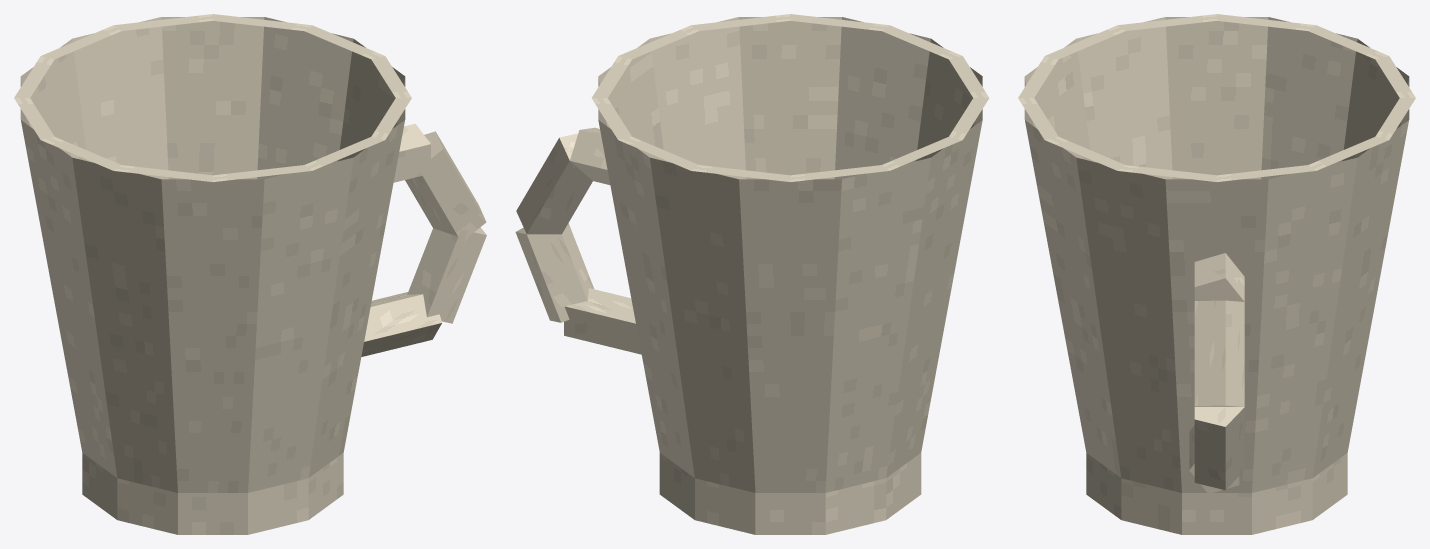
Rendered from ceramic_cup.glb.
The picture shows the model from 3 angles, left to right: view 1: azimuth 30°, elevation 25°; view 2: azimuth 150°, elevation 25°; view 3: azimuth 270°, elevation 25°; orthographic projection.
Visible parts, largest first — view 1: block_raised sides, block_thick foot, block_loop handle 2, block_loop handle 1, block_loop handle 3, block_loop handle 0, block_rolled rim 3, block_rolled rim 4, block_rolled rim 10, block_rolled rim 9, block_rolled rim 8, block_rolled rim 11 (+6 smaller); view 2: block_raised sides, block_thick foot, block_loop handle 2, block_loop handle 1, block_loop handle 3, block_loop handle 0, block_rolled rim 1, block_rolled rim 2, block_rolled rim 7, block_rolled rim 8, block_rolled rim 9, block_rolled rim 0 (+6 smaller); view 3: block_raised sides, block_thick foot, block_loop handle 1, block_loop handle 2, block_loop handle 0, block_rolled rim 0, block_rolled rim 11, block_rolled rim 5, block_rolled rim 6, block_rolled rim 4, block_rolled rim 7, block_rolled rim 1 (+5 smaller).
Part boxes in pixels (box(x1,y1,x2,y2)): block_raised sides: box(20, 17, 405, 492); block_thick foot: box(82, 453, 343, 534); block_loop handle 2: box(407, 227, 486, 323); block_loop handle 1: box(405, 131, 486, 239); block_loop handle 3: box(361, 292, 442, 356); block_loop handle 0: box(393, 123, 430, 182); block_rolled rim 3: box(213, 165, 311, 181); block_rolled rim 4: box(114, 165, 212, 181); block_rolled rim 10: box(213, 14, 311, 30); block_rolled rim 9: box(114, 14, 212, 30); block_rolled rim 8: box(41, 25, 121, 59); block_rolled rim 11: box(304, 25, 384, 59); block_raised sides: box(598, 17, 982, 492); block_thick foot: box(659, 453, 921, 534); block_loop handle 2: box(515, 223, 593, 322); block_loop handle 1: box(516, 133, 592, 234); block_loop handle 3: box(564, 288, 641, 354); block_loop handle 0: box(570, 127, 610, 184); block_rolled rim 1: box(691, 14, 790, 30); block_rolled rim 2: box(790, 14, 889, 30); block_rolled rim 7: box(790, 165, 889, 181); block_rolled rim 8: box(691, 165, 790, 181); block_rolled rim 9: box(618, 137, 698, 170); block_rolled rim 0: box(619, 25, 698, 59); block_raised sides: box(1024, 17, 1409, 492); block_thick foot: box(1086, 453, 1347, 534); block_loop handle 1: box(1194, 300, 1244, 406); block_loop handle 2: box(1194, 407, 1244, 490); block_loop handle 0: box(1194, 253, 1244, 301); block_rolled rim 0: box(1118, 165, 1216, 181); block_rolled rim 11: box(1217, 165, 1315, 181); block_rolled rim 5: box(1118, 14, 1216, 30); block_rolled rim 6: box(1217, 14, 1315, 30); block_rolled rim 4: box(1045, 25, 1125, 59); block_rolled rim 7: box(1308, 25, 1388, 59); block_rolled rim 1: box(1045, 136, 1124, 170).
Size of the model in its own units: 0.12 by 0.0988 by 0.0933.
2 materials, 2 textured.
